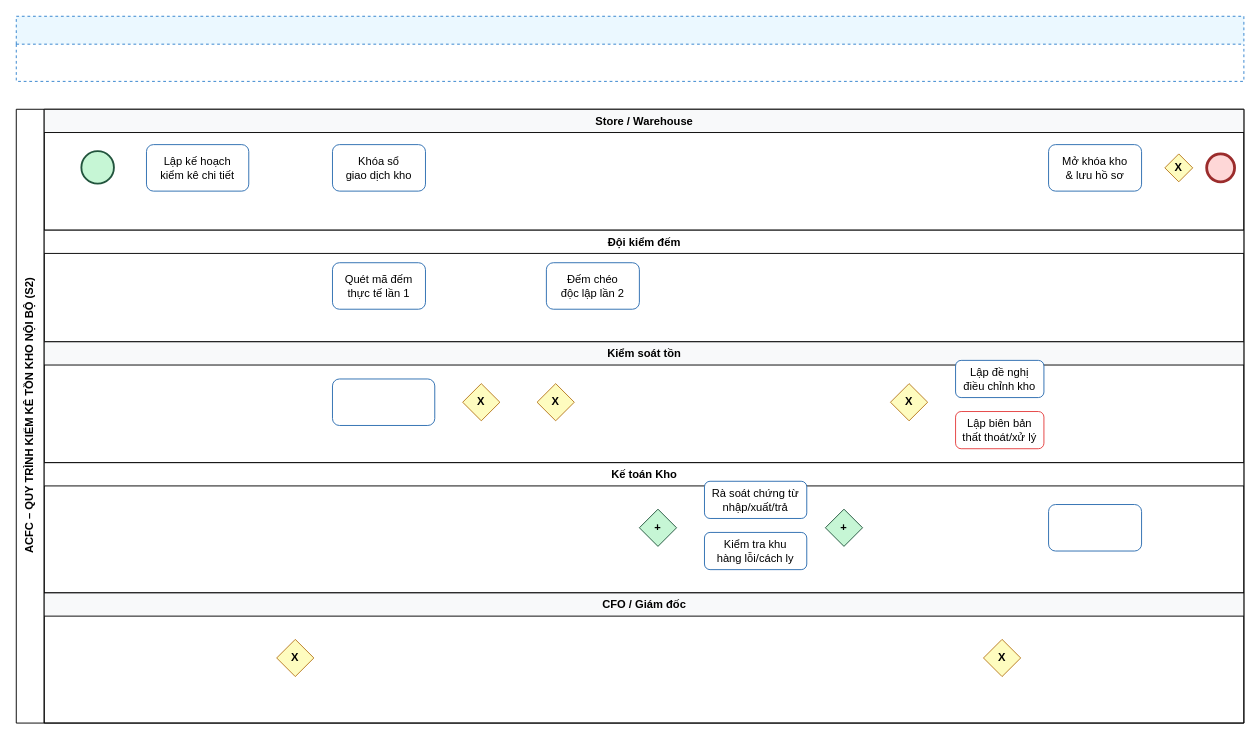
Image size: 1260x739. Some labels were removed from this diagram. Here are the shapes that lost their labels. From the top down, the centre of each, then its label:
At (x=629, y=48): "POOL NGOÀI: BỘ PHẬN HOẠCH ĐỊNH HÀNG HÓA M3 (MERCHANDISING PLANNING)".
At (x=383, y=401): "Tự động đối chiếu số dư sổ tồn".
At (x=1095, y=527): "Cập nhật số dư vào ERP/WMS".
